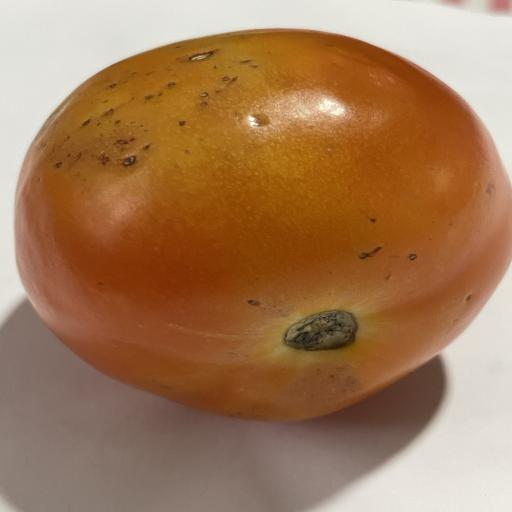unripe: (15, 29, 512, 420)
